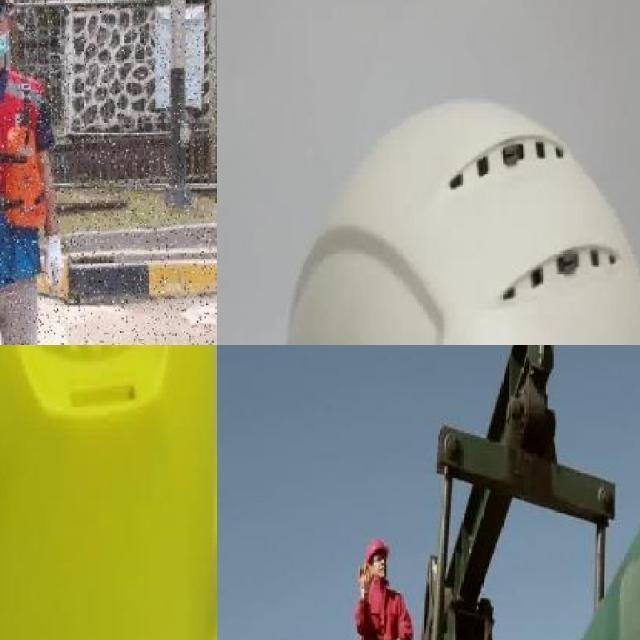apron: (42, 234, 64, 296), (357, 564, 372, 594)
